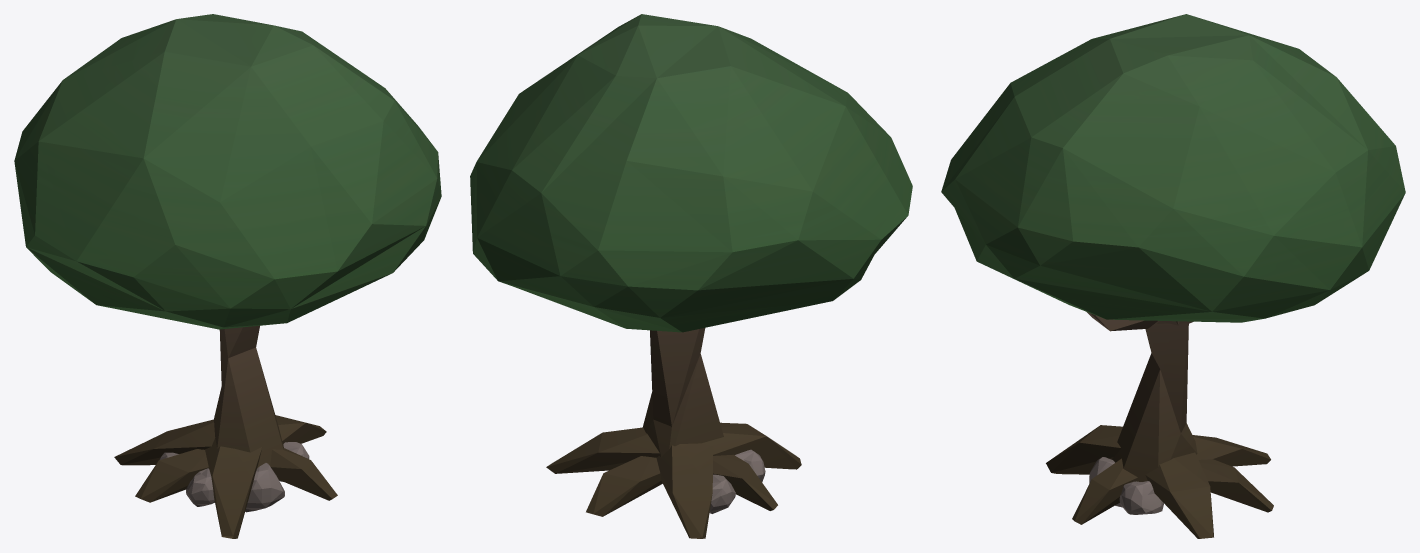
The model's file is tree03.FBX.
3 views of the same model, side by side, from view 1: azimuth 30°, elevation 25°; view 2: azimuth 150°, elevation 25°; view 3: azimuth 270°, elevation 25° (orthographic). The views are drawn at different scales.
Parts seen in each view (by area): view 1: Tree_02; view 2: Tree_02; view 3: Tree_02.
Boxes of the visible parts, bbox=[...] form: Tree_02: bbox=[14, 14, 441, 538]; Tree_02: bbox=[470, 14, 912, 538]; Tree_02: bbox=[941, 14, 1405, 538].
Size of the model in its own units: 18.59 by 19.62 by 21.81.
